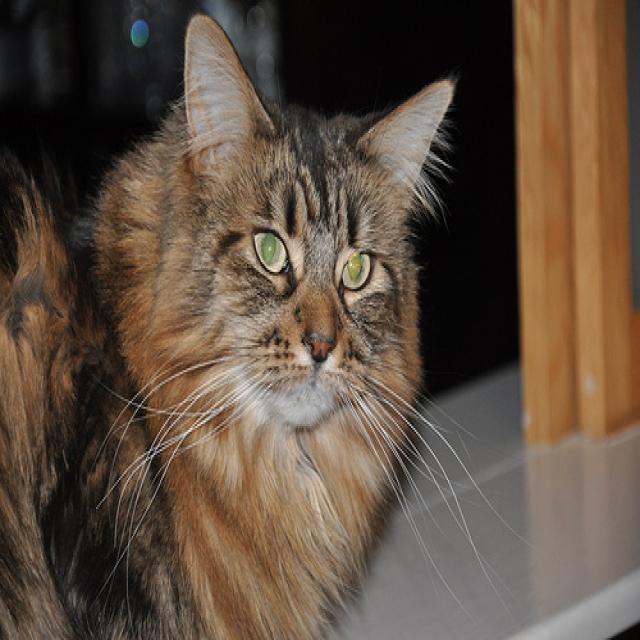Maine_Coon: (182, 10, 452, 424)
